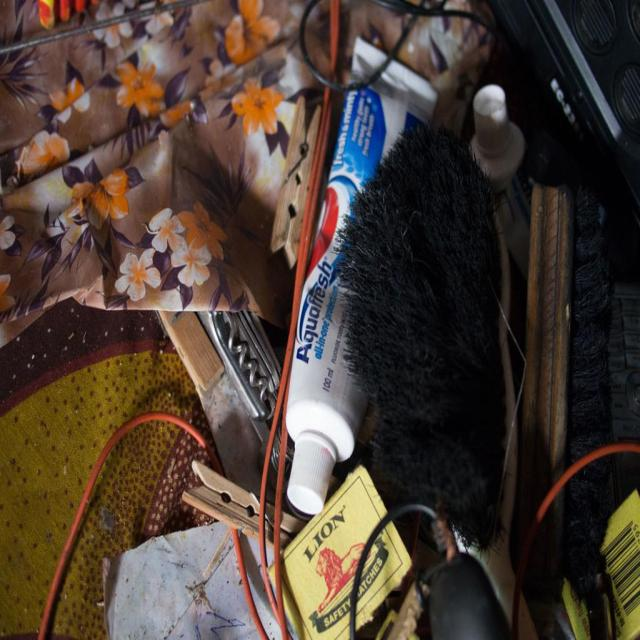Toothpaste: (282, 33, 440, 516)
